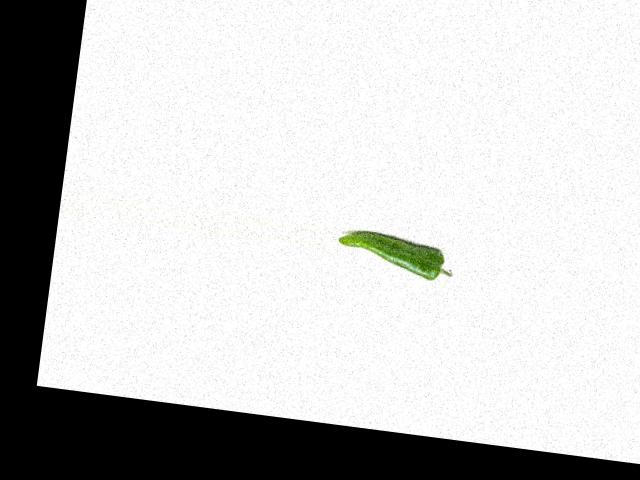bell_pepper: (334, 225, 461, 285)
